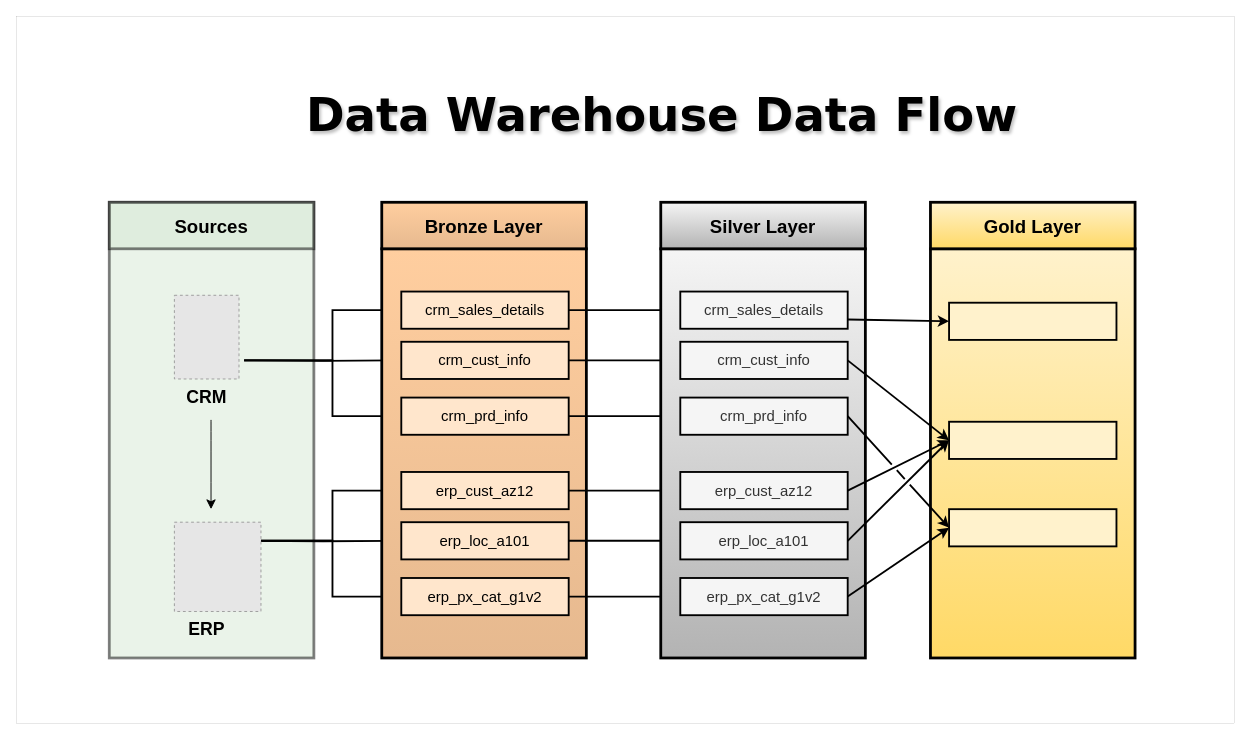
Some shapes in this 1250 by 738 pixel diagram are drawn without their labels. Grey dashed boxes stand in for pictures. Each missing label, with the centre of its shape:
dim_customers: pixel 1032 439
dim_products: pixel 1032 527
fact_sales: pixel 1032 320
